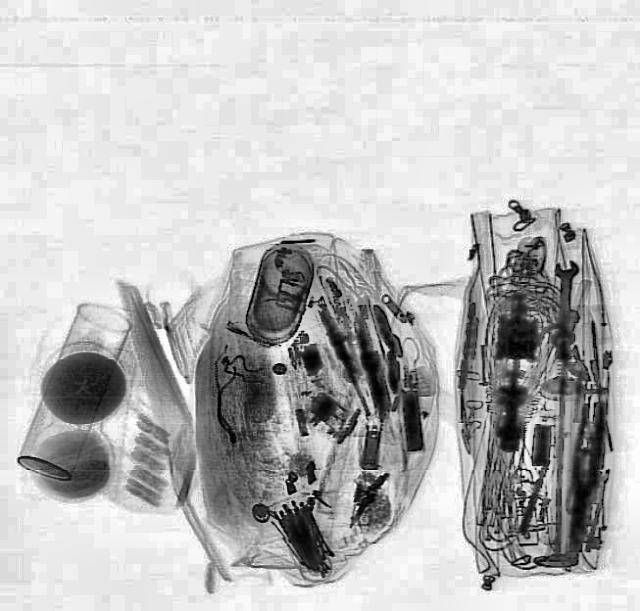Pliers: (560, 398, 610, 554)
Wrench: (550, 260, 580, 346)
